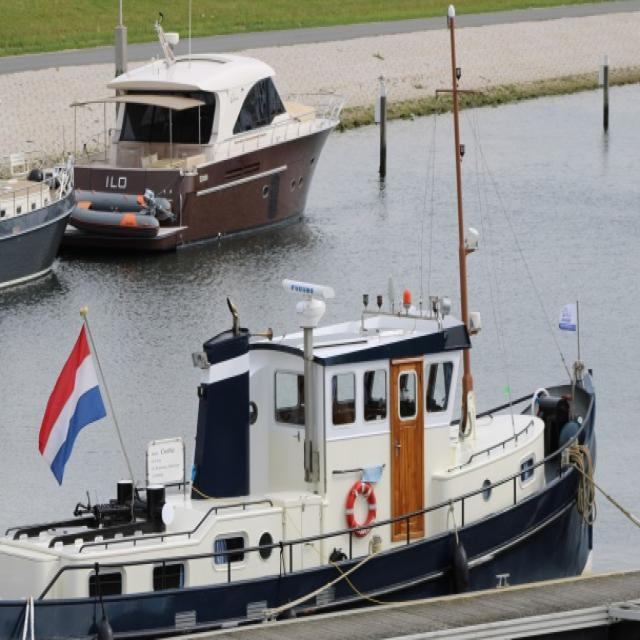tugboat: (1, 270, 604, 640)
